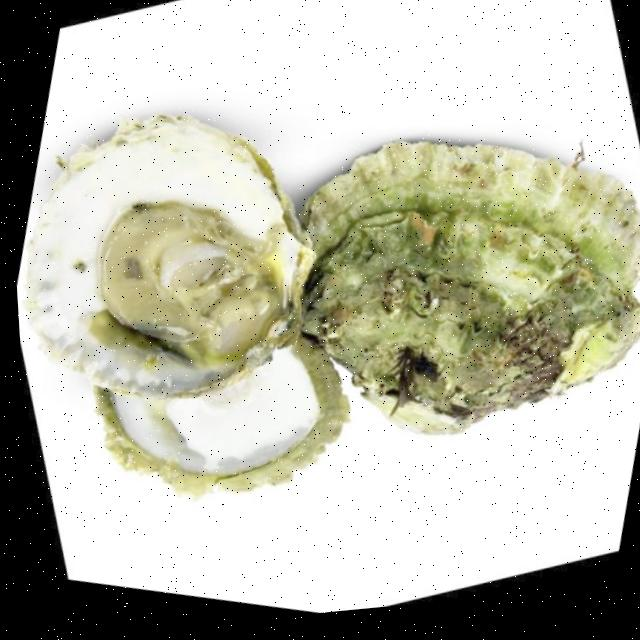Oyster-Indeterminate: (302, 141, 640, 433)
Oyster-Open: (26, 114, 314, 396), (95, 337, 349, 495)
